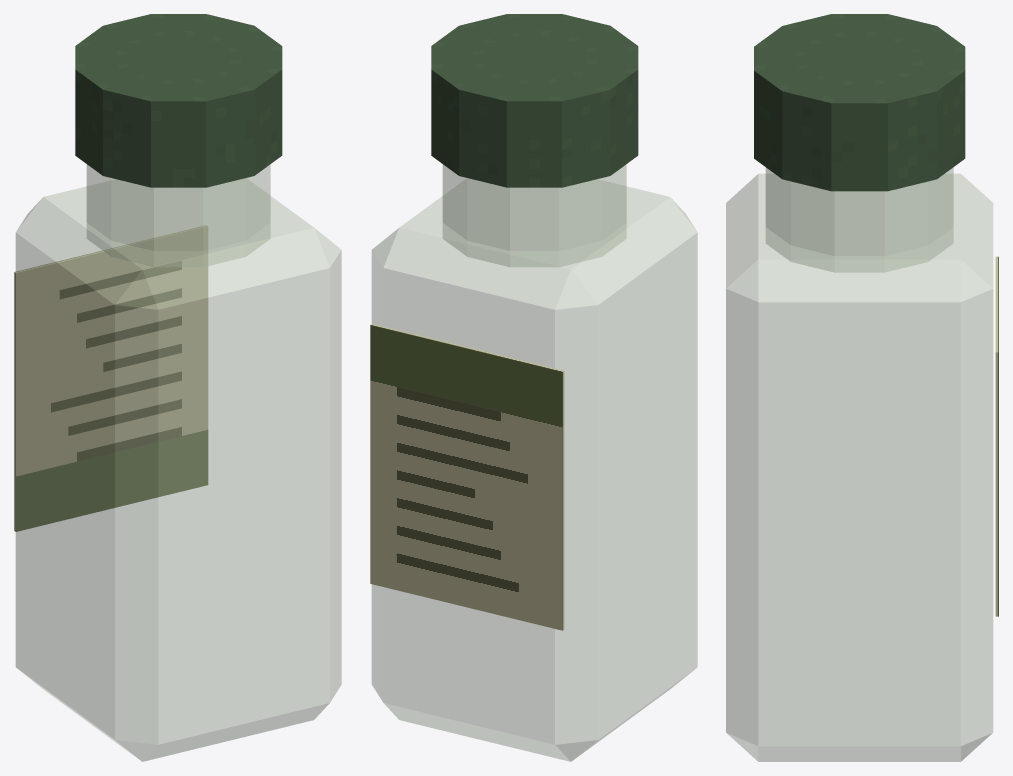
Rendered from bottle_glass_seasoning.glb.
The picture shows the model from 3 angles, left to right: view 1: azimuth 30°, elevation 25°; view 2: azimuth 150°, elevation 25°; view 3: azimuth 270°, elevation 25°; orthographic projection. The views are drawn at different scales.
Visible parts, largest first — view 1: block_square bottle, block_paper spice label, block_large green screw cap, block_neck; view 2: block_square bottle, block_paper spice label, block_large green screw cap, block_neck; view 3: block_square bottle, block_large green screw cap, block_neck, block_paper spice label.
Part boxes in pixels (bbox=[...]): block_square bottle: bbox=[15, 178, 341, 761]; block_paper spice label: bbox=[14, 225, 208, 531]; block_large green screw cap: bbox=[75, 14, 282, 187]; block_neck: bbox=[86, 164, 270, 266]; block_square bottle: bbox=[371, 178, 697, 761]; block_paper spice label: bbox=[370, 324, 564, 630]; block_large green screw cap: bbox=[431, 14, 638, 187]; block_neck: bbox=[442, 164, 626, 266]; block_square bottle: bbox=[726, 173, 993, 761]; block_large green screw cap: bbox=[754, 14, 965, 191]; block_neck: bbox=[765, 167, 953, 272]; block_paper spice label: bbox=[995, 256, 998, 616].
Bounding box in the file's own units: 0.066 × 0.18 × 0.0674.
Materials: 2 (2 with a texture image).
